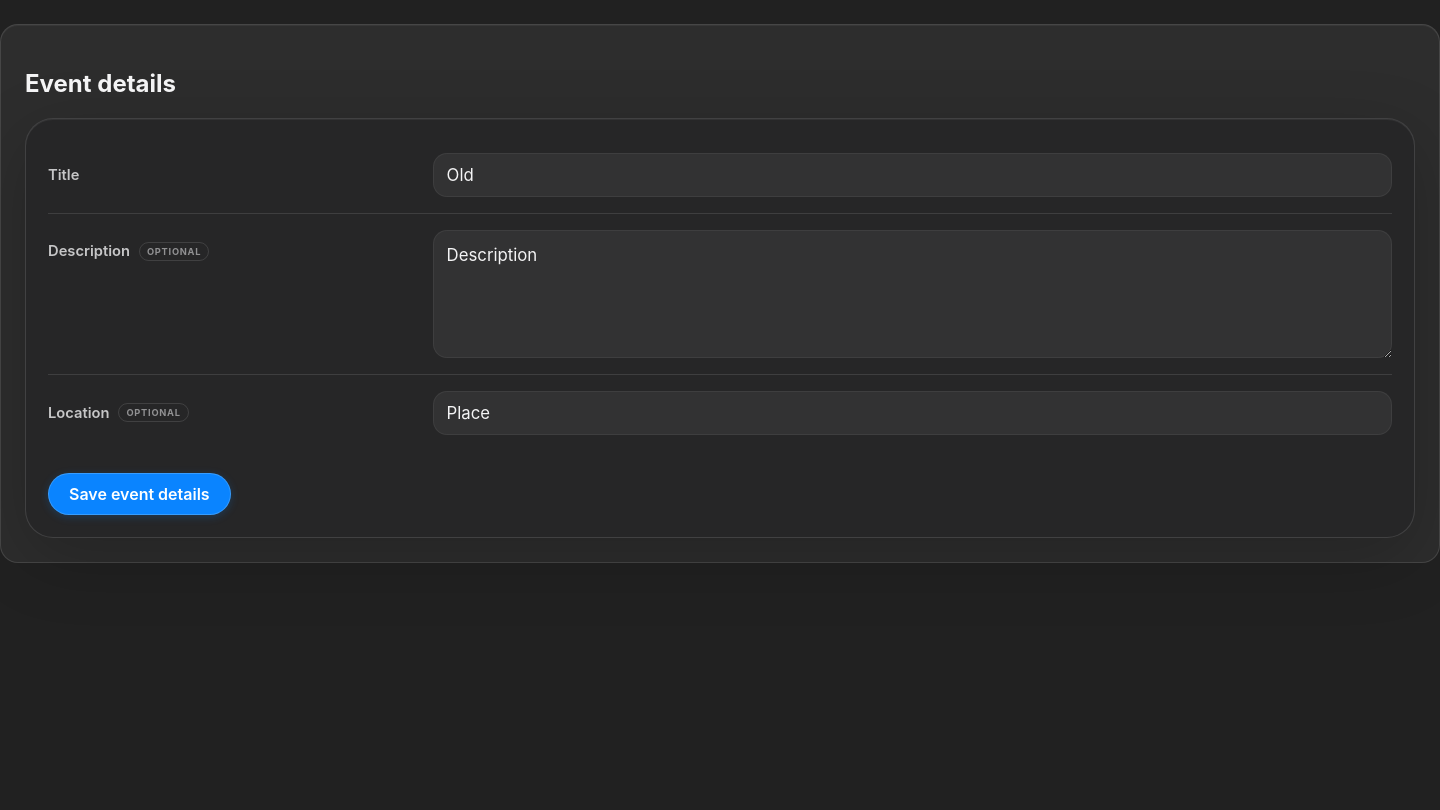
Test case: EventDetailsEditor › maps server field errors and gives conflict recovery guidance
The width and height of the screenshot is (1440, 810).
What coordinates should you click on to do the following:
click the button "Save event details"
I would click on:
 (139, 494)
Its box is left=48, top=473, right=231, bottom=515.
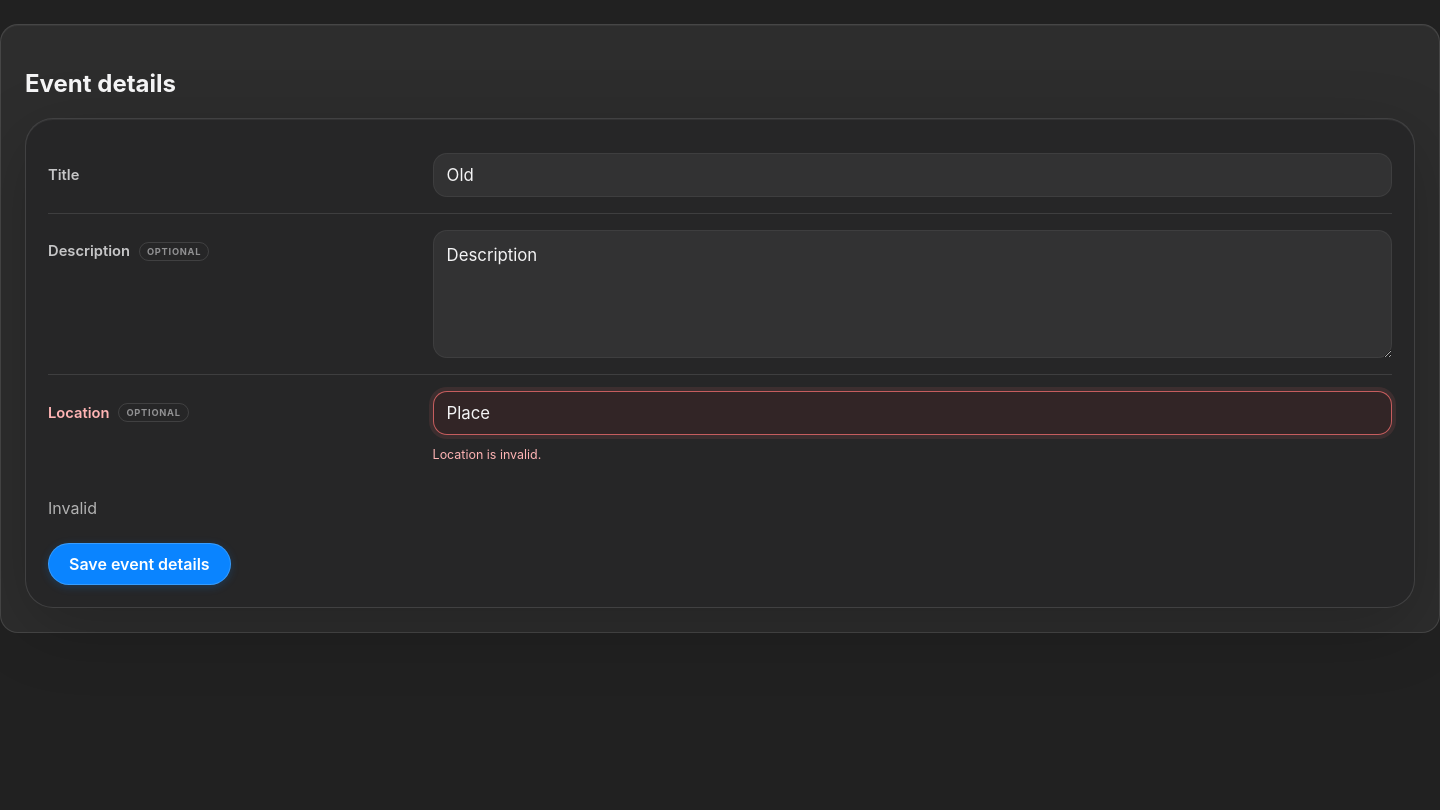
Expected: the text "Location is invalid." is shown, left=433, top=447, right=541, bottom=462
What coordinates should you click on to do the following:
click the button "Save event details"
I would click on:
 (139, 564)
Its box is left=48, top=543, right=231, bottom=585.
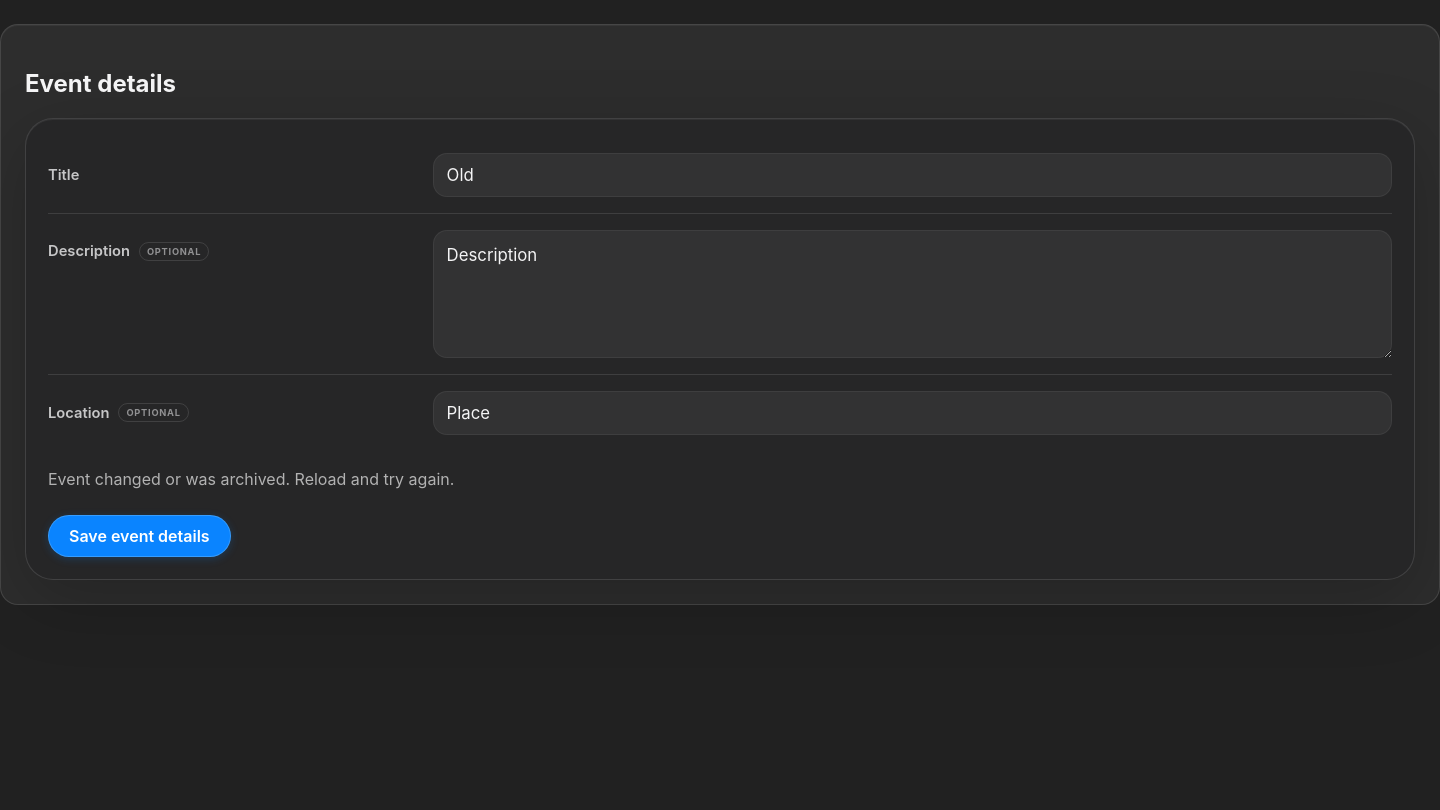
Expected: the message shows "Reload and try again", left=48, top=469, right=454, bottom=489
